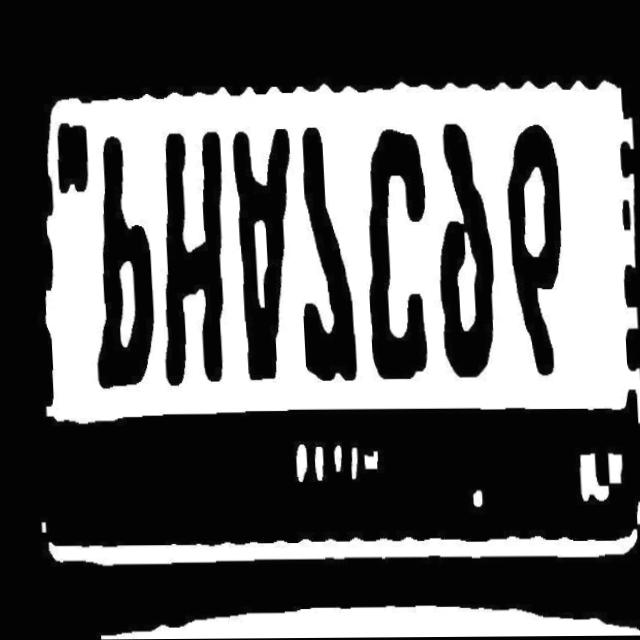7: (289, 125, 358, 386)
9: (422, 115, 498, 392)
a: (229, 129, 301, 387)
c: (353, 130, 433, 388)
h: (150, 123, 230, 392)
p: (80, 127, 156, 403)
